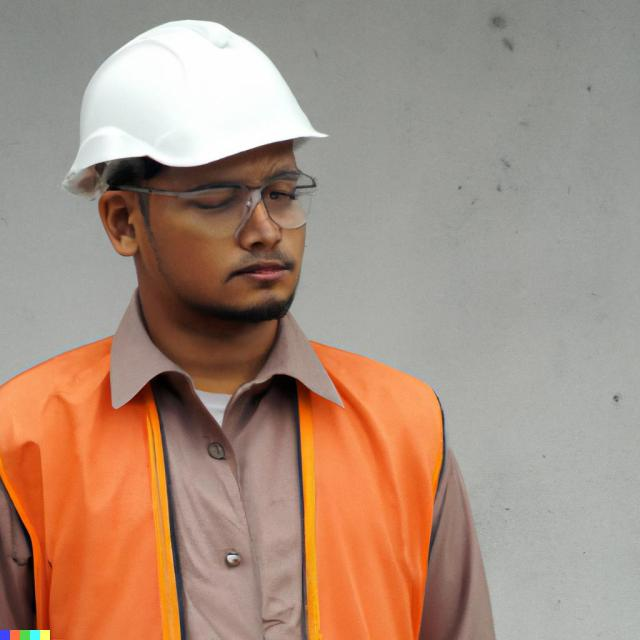Reflective-Jacket: (1, 330, 463, 639)
Safety-Helmet: (60, 18, 328, 188)
